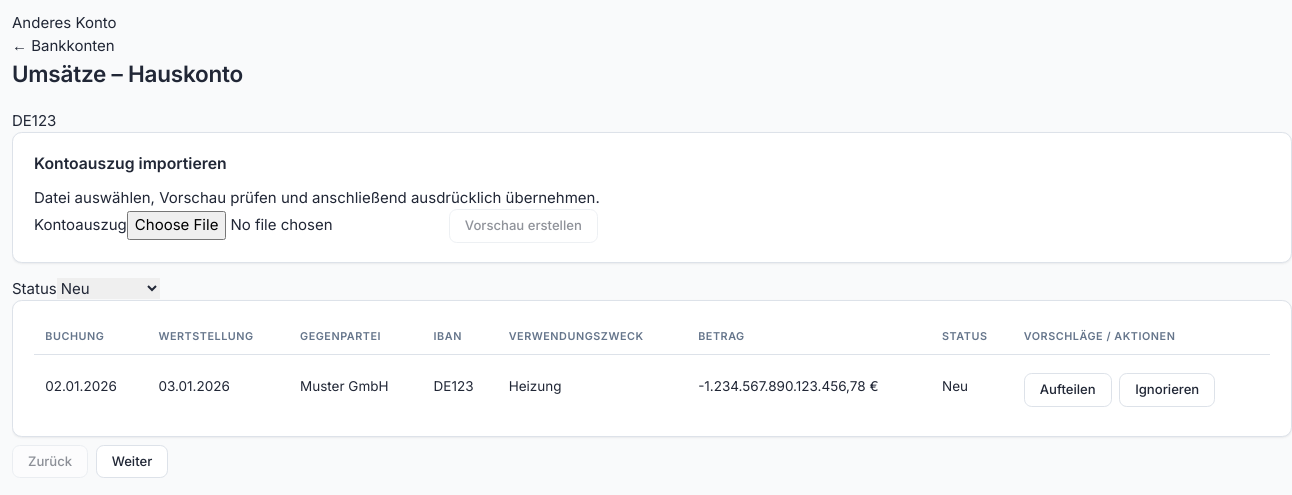
lädt Konto und exakte deutsche Beträge, paginiert und setzt Filter auf Seite 0 zurück
Check: the text "Heizung" is shown, box x1=497 y1=355 x2=687 y2=417
Check: the text "-1.234.567.890.123.456,78 €" is shown, box x1=687 y1=355 x2=931 y2=417
Click the button "Weiter": (132, 462) x1=96 y1=445 x2=168 y2=478
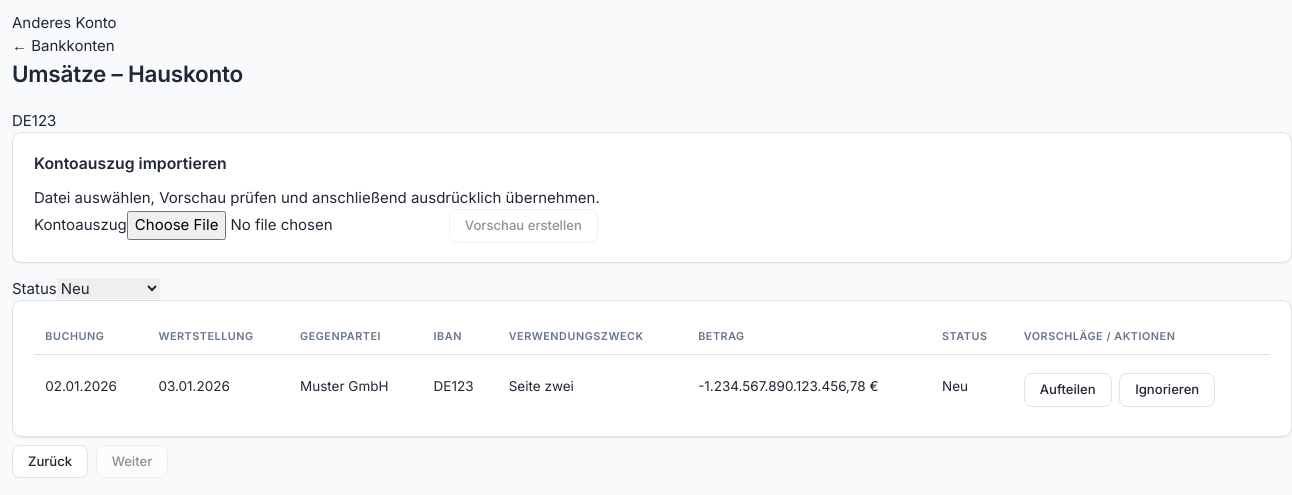
Check: the text "Seite zwei" is shown, box x1=497 y1=355 x2=687 y2=417
Select "Zugeordnet" in the dropdown labelled "Status": (108, 288) x1=57 y1=278 x2=160 y2=299
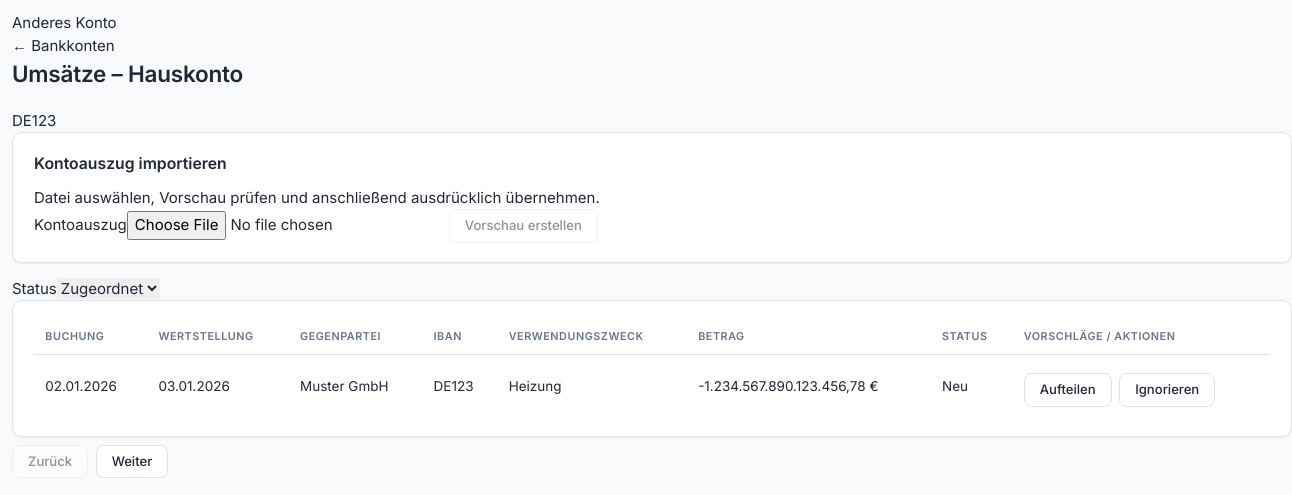
Check: the text "Heizung" is shown, box x1=497 y1=355 x2=687 y2=417
Check: the button "Zurück" is disabled, box x1=12 y1=445 x2=88 y2=478
